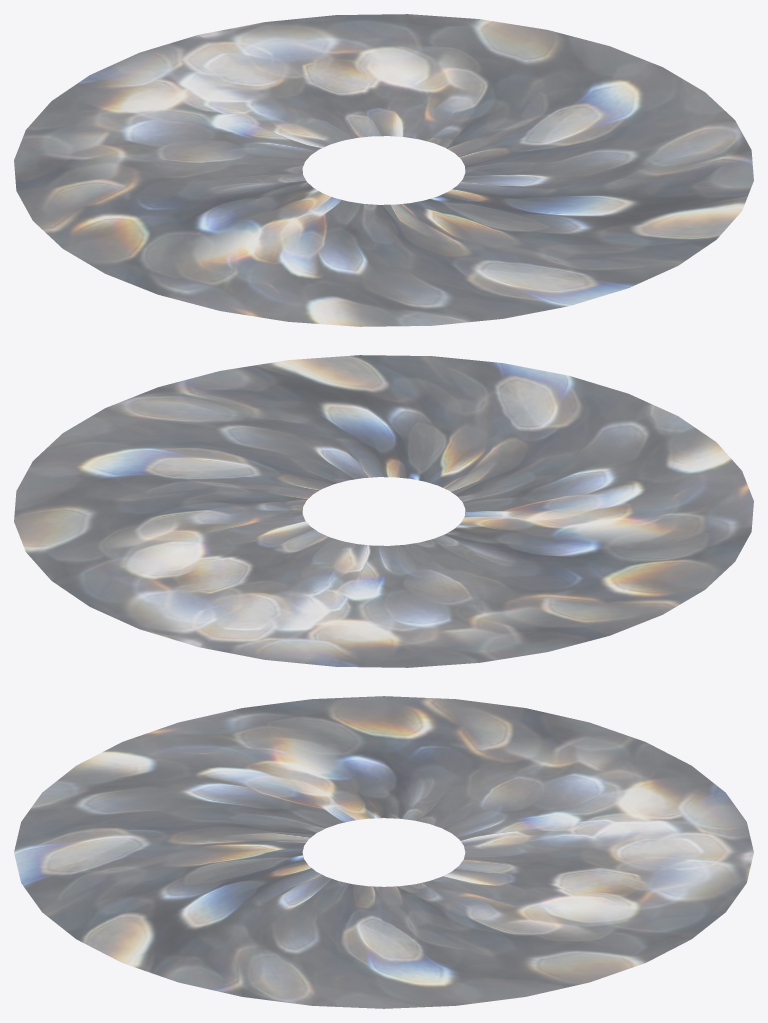
The model's file is Disc_SpiralUV_Tileable.fbx.
3 views of the same model, one above another, from view 1: azimuth 30°, elevation 25°; view 2: azimuth 150°, elevation 25°; view 3: azimuth 270°, elevation 25° (orthographic).
Visible parts, largest first — view 1: Disc_SpiralUV_Tileable; view 2: Disc_SpiralUV_Tileable; view 3: Disc_SpiralUV_Tileable.
Boxes of the visible parts, left/top/right/bottom form: Disc_SpiralUV_Tileable: left=14, top=14, right=753, bottom=326; Disc_SpiralUV_Tileable: left=14, top=355, right=753, bottom=667; Disc_SpiralUV_Tileable: left=14, top=696, right=753, bottom=1008.
Bounding box in the file's own units: 200 × 3.02e-05 × 200.
